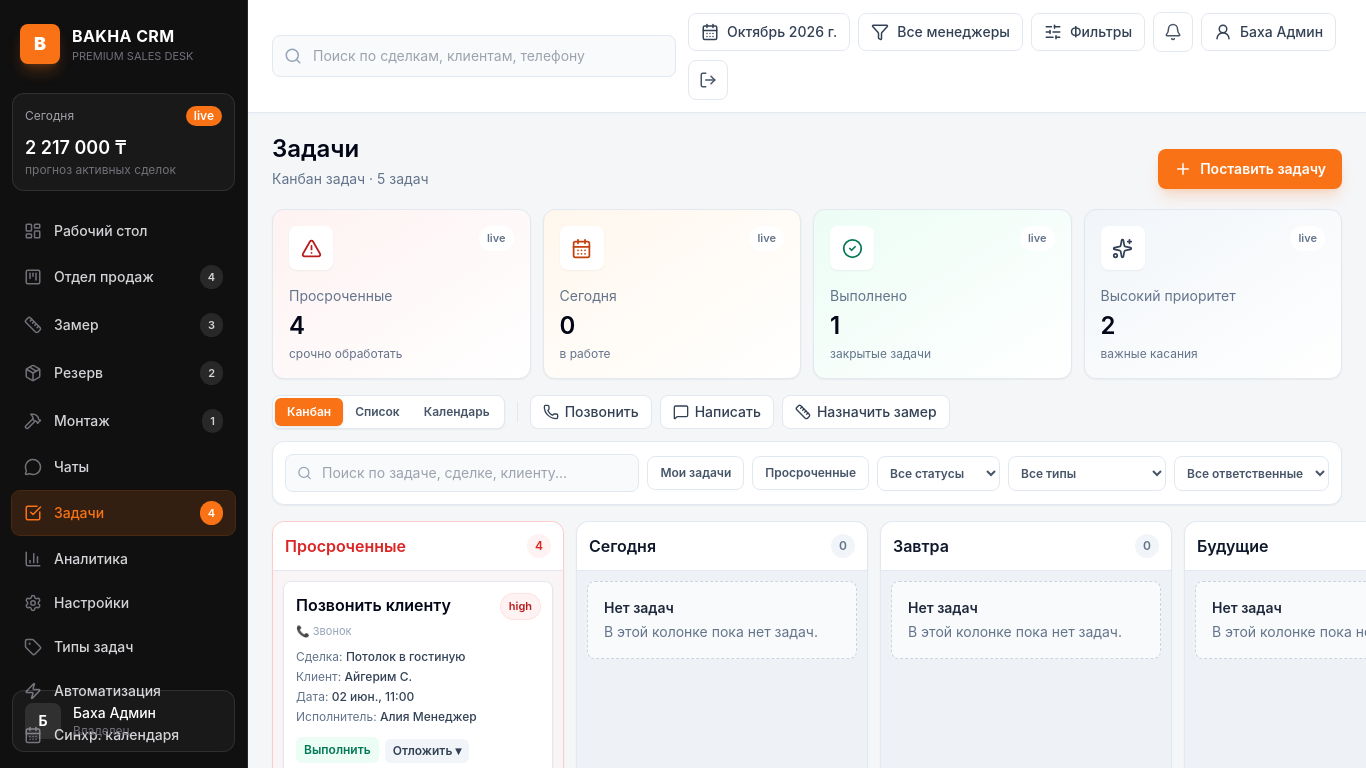
Bakha CRM smoke › clicking + Поставить задачу opens create task modal
Expected: the heading "Задачи" is shown, x1=272 y1=134 x2=359 y2=163
What coordinates should you click on to do the following:
click the button "Поставить задачу"
I would click on:
 (1250, 169)
Its box is x1=1158 y1=149 x2=1342 y2=189.
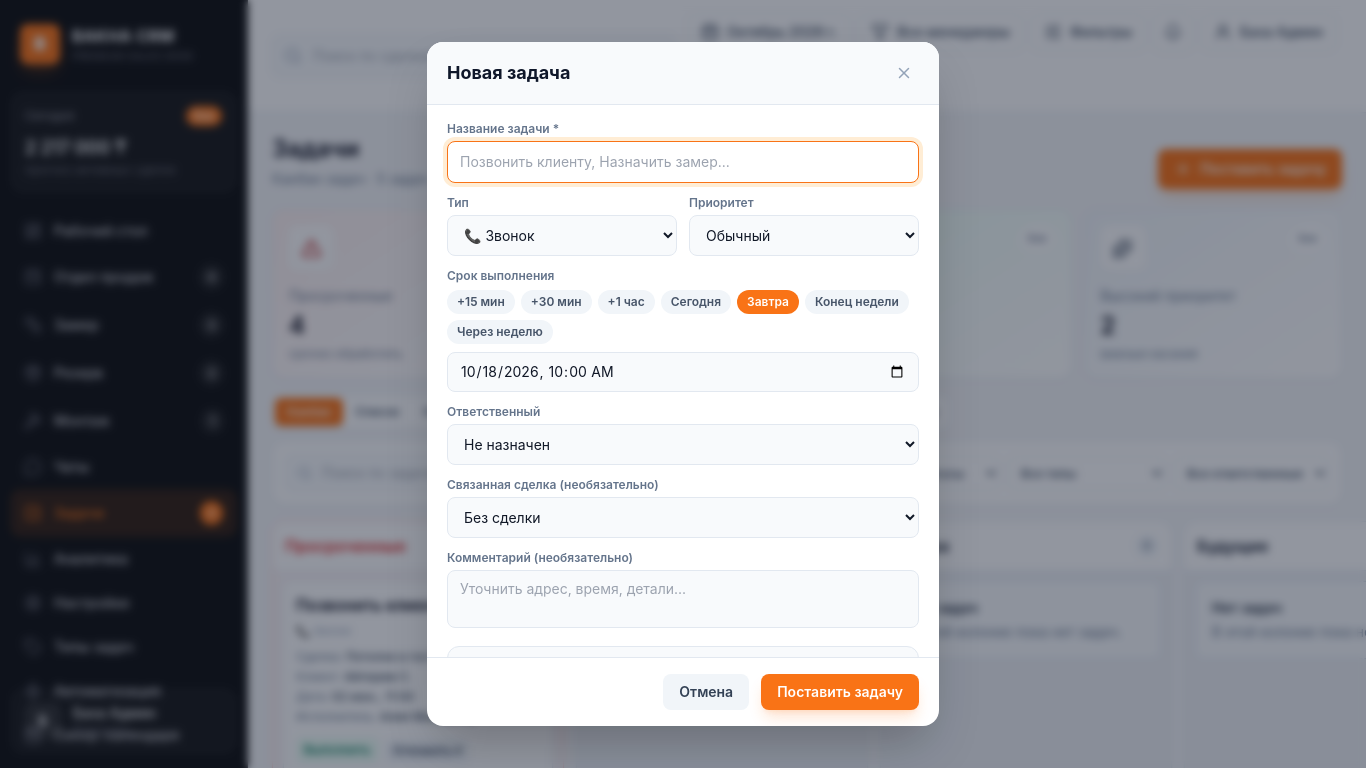
Now the heading "Новая задача" is shown, box x1=447 y1=58 x2=570 y2=86
Now the field with placeholder "Позвонить клиенту, Назначить замер..." is shown, box x1=447 y1=140 x2=919 y2=182
Now the element with test id "due-presets" is shown, box x1=447 y1=290 x2=919 y2=344
